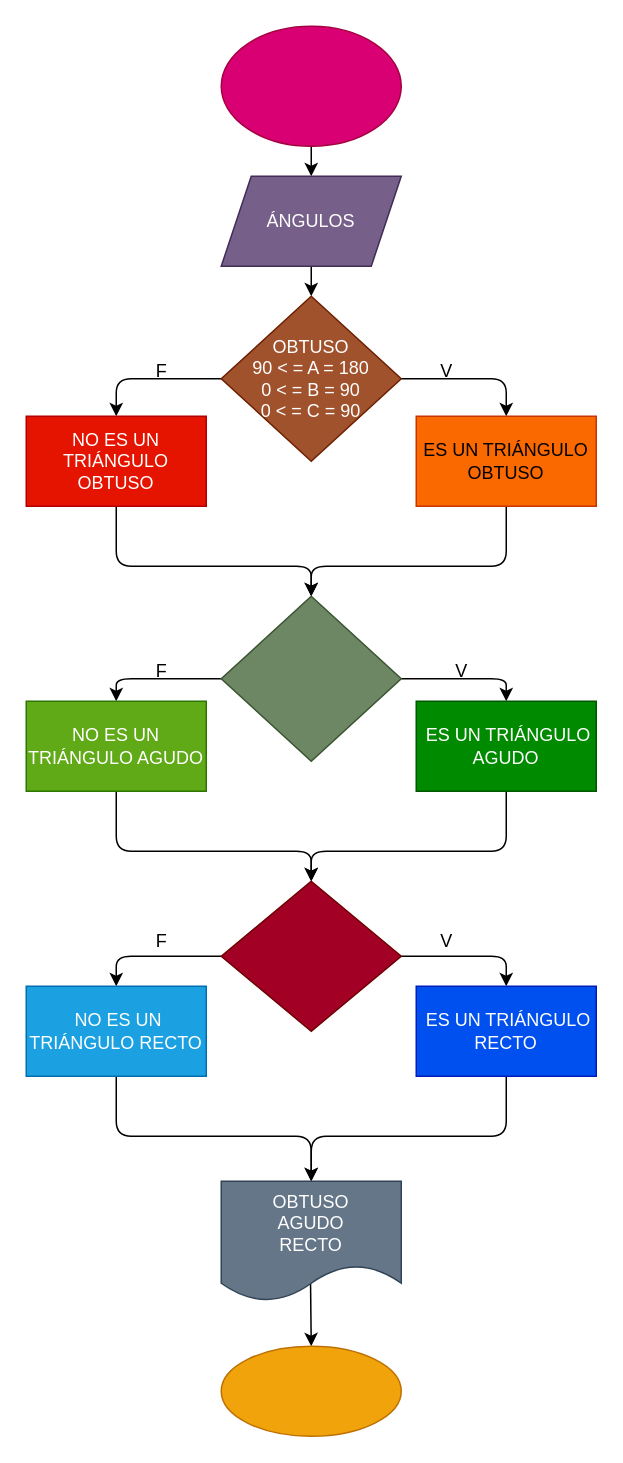
Some shapes in this 623 by 1463 pixel diagram are drawn without their labels. The shapes that lost their labels are listed below. From the top down, each one's box as (x1, y1, x2, y2) in pixels, then its label:
(220, 25, 401, 146): INICIO
(220, 595, 401, 761): AGUDO 0 < = A = 90 0 < = B = 90 0 < = C = 90
(220, 880, 401, 1031): RECTO A == 90 B == 90 C == 90
(220, 1345, 401, 1436): FIN
